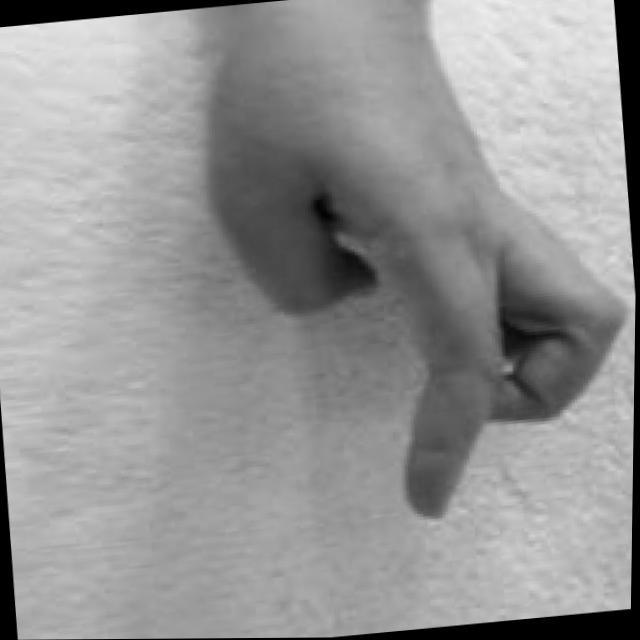P: (181, 0, 640, 544)
